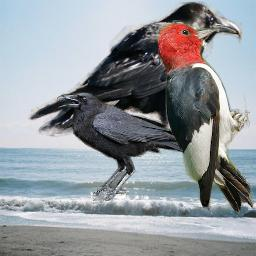Crow: (27, 0, 242, 156), (57, 92, 205, 201)
Woodpecker: (158, 21, 256, 214)
